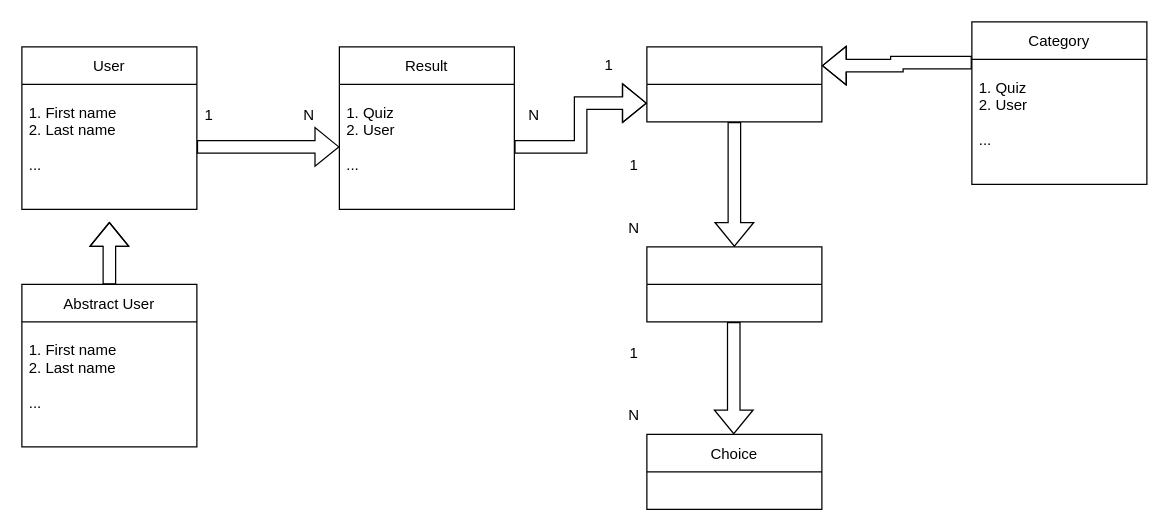
This 1169x531 diagram has some shape labels left out. The shapes that lost their labels are listed below. From the top down, each one's centre as x and y in pixels, then its label:
the point at 734,84: Quiz
the point at 734,284: Questions
